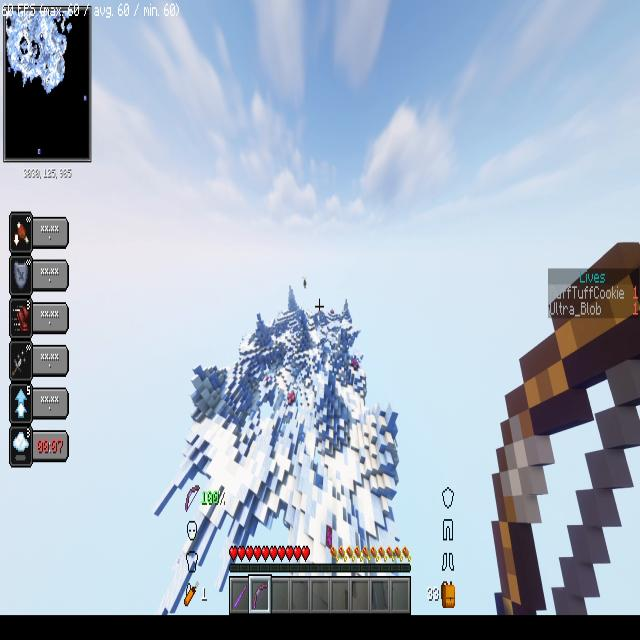Player: (300, 272, 309, 296)
